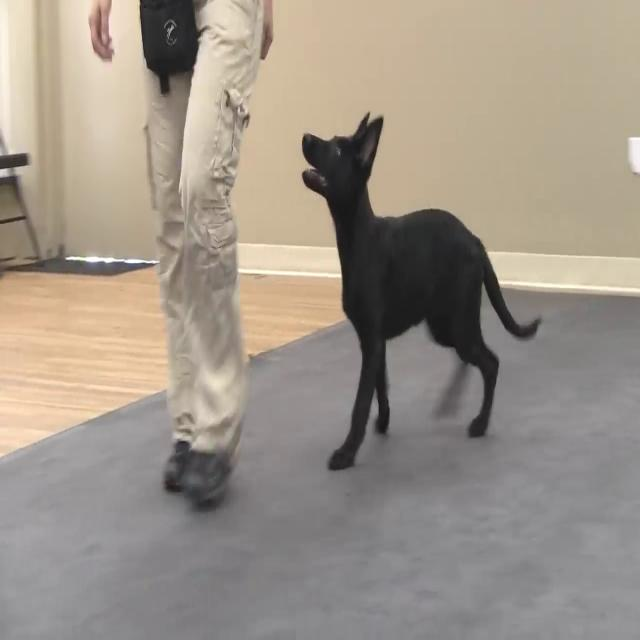Unleashed_Dog: (172, 5, 542, 472)
